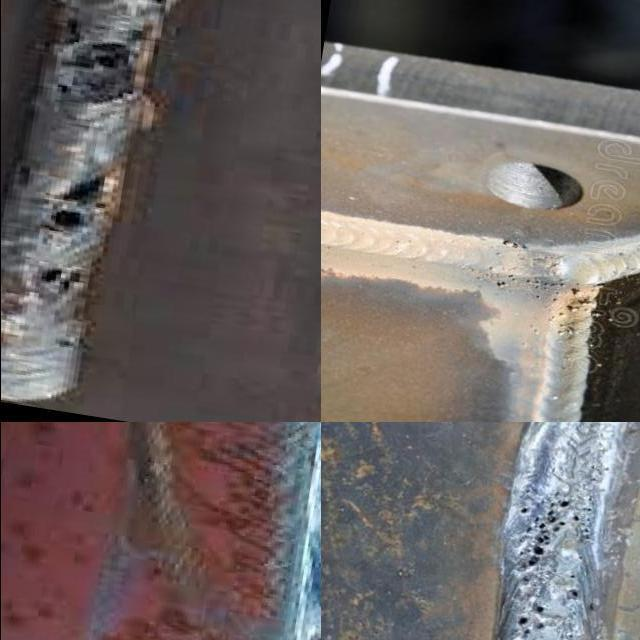defect: (509, 492, 588, 575), (523, 275, 593, 346), (39, 169, 110, 239), (40, 37, 135, 73), (511, 603, 580, 640), (47, 76, 115, 101), (32, 266, 87, 294), (492, 237, 534, 253), (491, 273, 520, 292), (560, 583, 586, 604), (54, 338, 82, 352), (150, 0, 175, 10)
